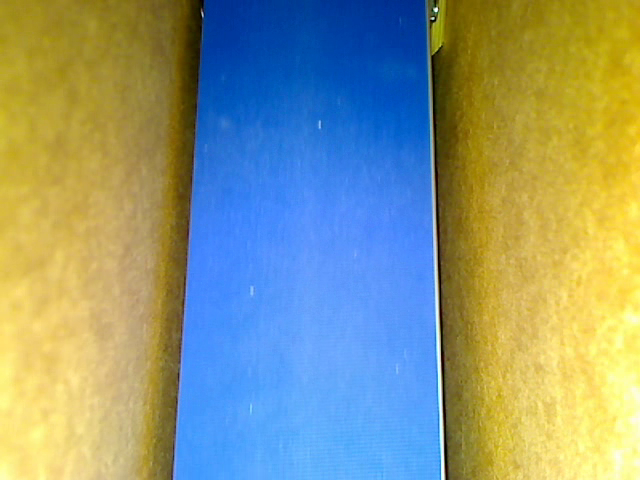penne: (427, 1, 448, 64)
